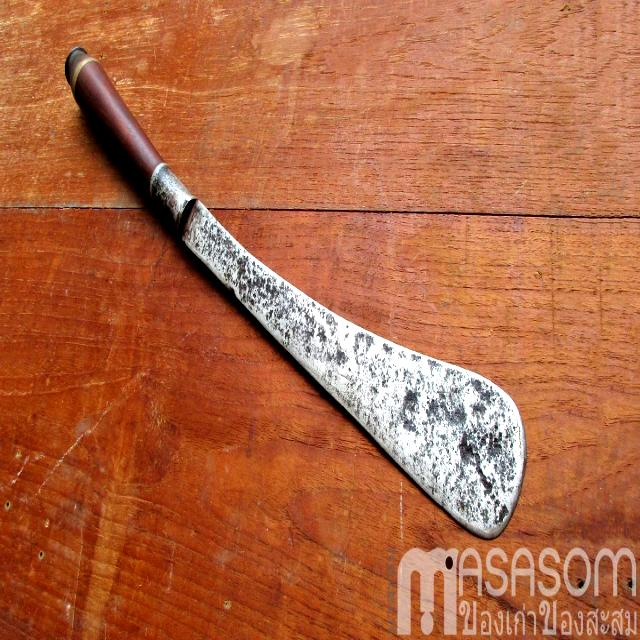eto: (55, 37, 532, 548)
